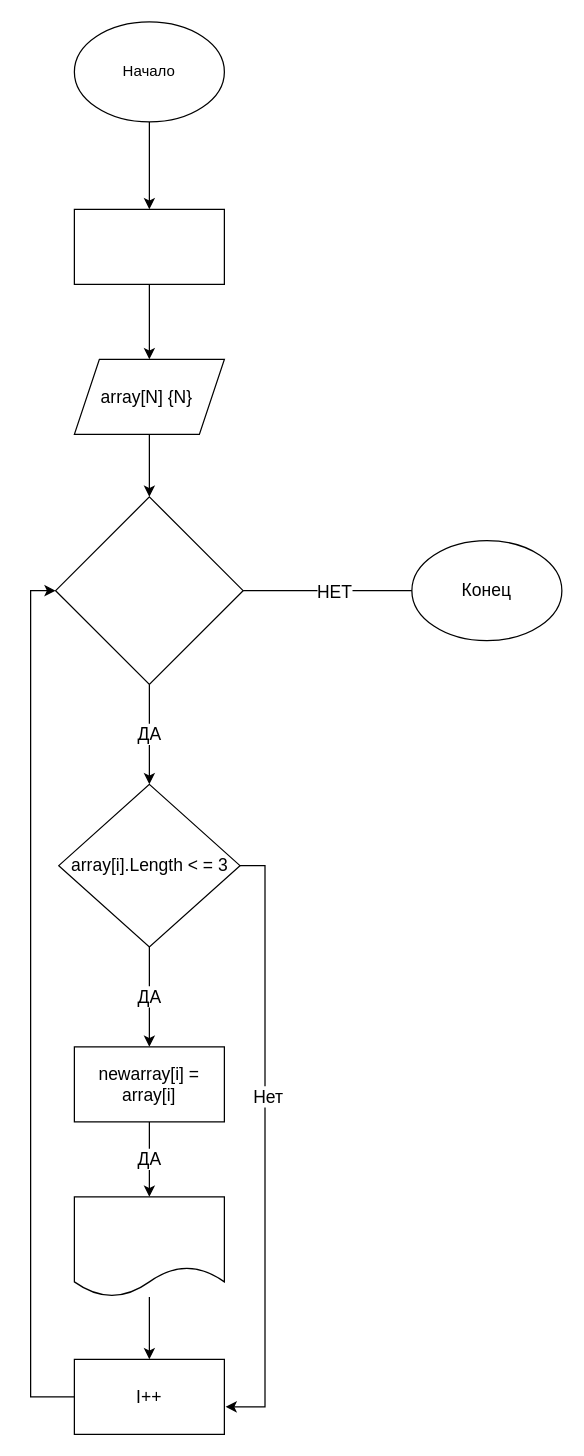
This 584x1456 diagram has some shape labels left out. The box of each missing label's shape, as (x1, y1, x2, y2) in pixels:
array[N] newarray[N] i = 0: (73, 208, 224, 284)
Console.Write($"{newarray[i] "): (73, 1196, 224, 1297)
i < array.Length: (54, 496, 243, 684)
